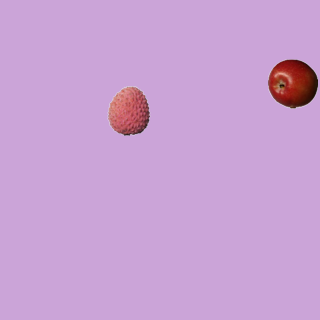Apple Braeburn: (267, 58, 317, 108)
Lychee: (103, 85, 153, 135)
